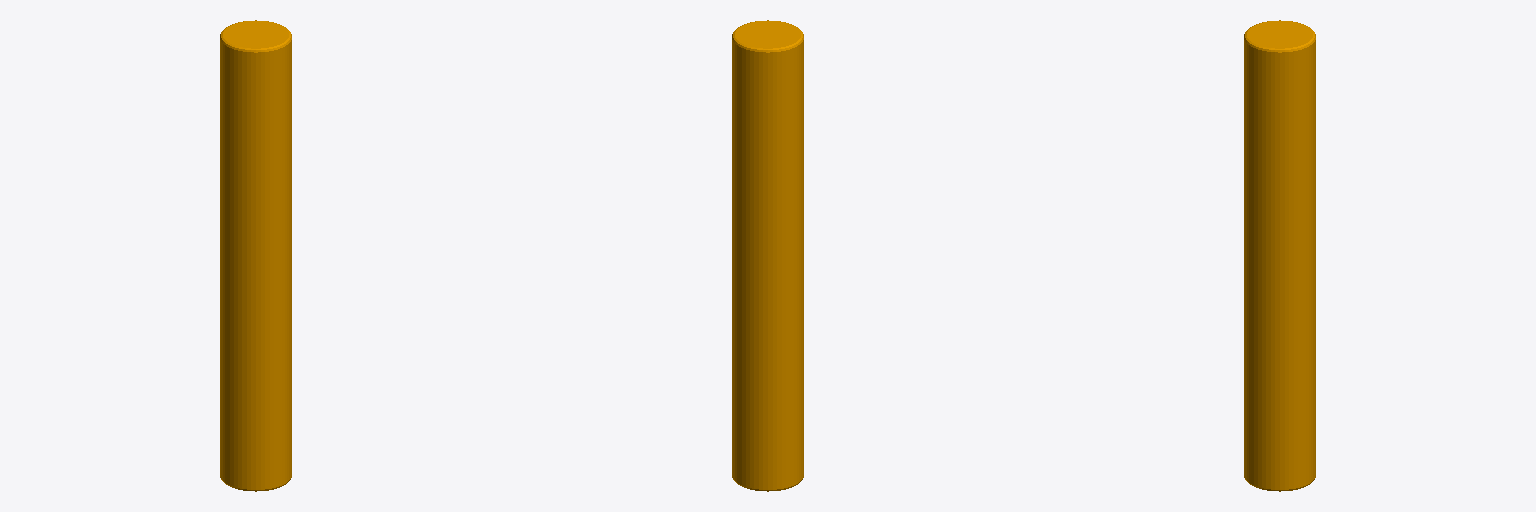
URDF robot description (bolt_large_starting_point):
<?xml version="1.0" ?>
<robot name="bolt_large_starting_point">
  <link name="base_link">
    <inertial>
      <origin xyz="0 0 0.0675" rpy="0 0 0"/>
      <mass value="0.0212057504"/>
      <inertia ixx="3.29130918e-05" ixy="0" ixz="0" iyy="3.29130918e-05" iyz="0" izz="1.41371669e-06"/>
    </inertial>
    <visual name="visual">
      <origin xyz="0 0 0" rpy="0 0 0"/>
      <geometry>
        <mesh filename="meshes/visual.obj" scale="1 1 1"/>
      </geometry>
    </visual>
    <collision name="bolt">
      <origin xyz="0 0 0" rpy="0 0 0"/>
      <geometry>
        <mesh filename="meshes/collision/bolt.obj" scale="1 1 1"/>
      </geometry>
    </collision>
  </link>
</robot>

--- Render facts (derived) ---
The picture shows the robot from 3 angles, left to right: view 1: azimuth 30°, elevation 25°; view 2: azimuth 150°, elevation 25°; view 3: azimuth 270°, elevation 25°; orthographic projection.
Model bolt_large_starting_point with 1 links and 0 joints (none), rooted at base_link, posed every joint at zero.
Visible links, largest first — view 1: base_link; view 2: base_link; view 3: base_link.
Link boxes in pixels (x1=…): base_link: x1=220, y1=20, x2=291, y2=491; base_link: x1=732, y1=20, x2=803, y2=491; base_link: x1=1244, y1=20, x2=1315, y2=491.
Size in the robot's own frame: 0.02 by 0.02 by 0.135 metres.
1 mesh visuals loaded from 1 distinct referenced files (1 OBJ).
